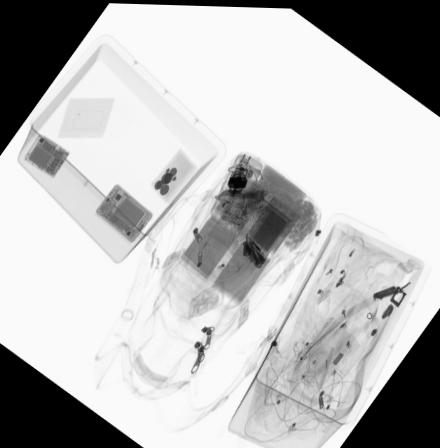Powerbank: (239, 202, 293, 264)
